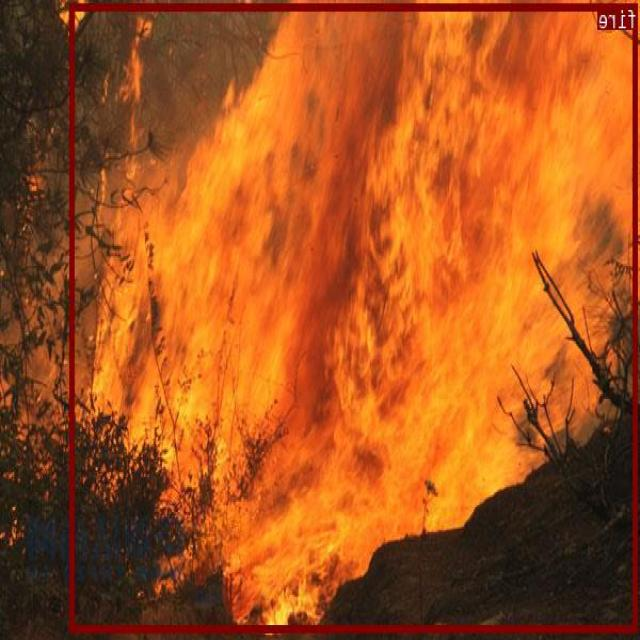fire: (71, 2, 638, 630)
